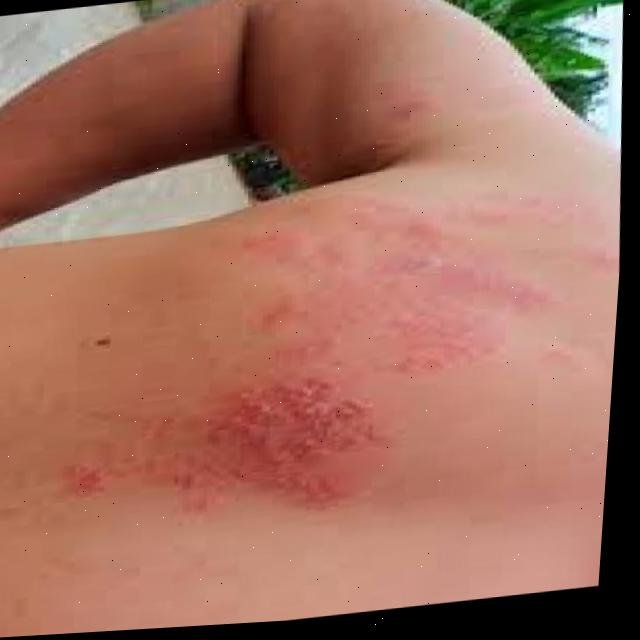Shingles: (101, 181, 623, 528)
